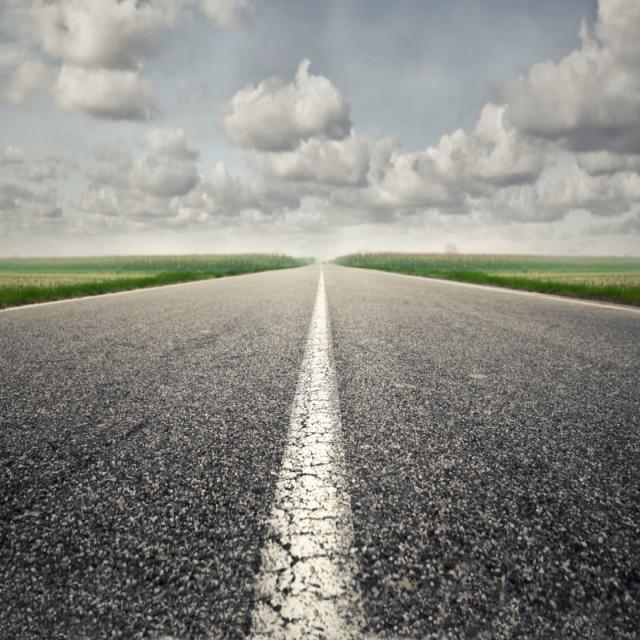Clean road: (0, 274, 640, 640)
